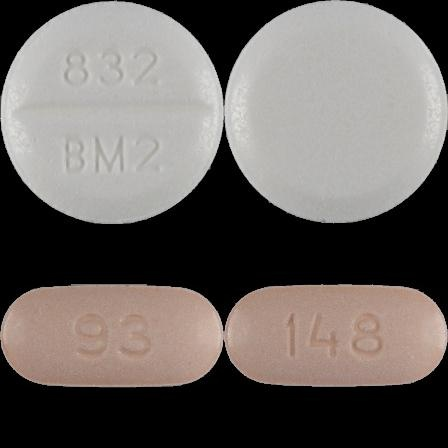52125-169: (0, 0, 224, 224)
